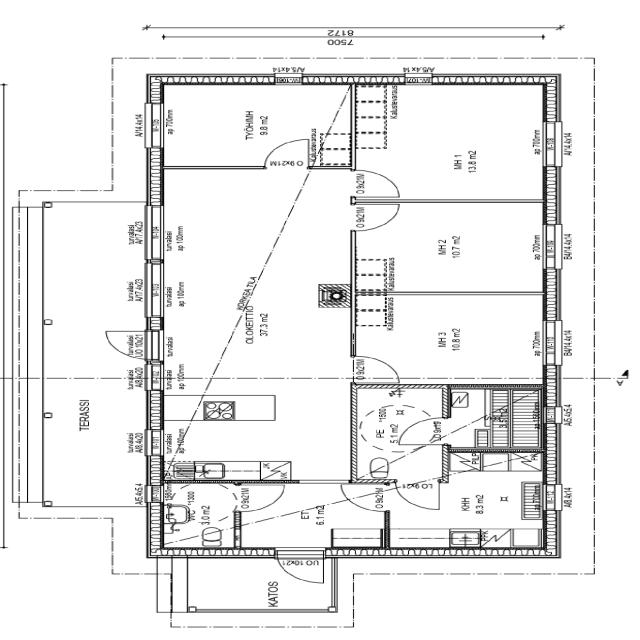door: (272, 547, 328, 585), (391, 476, 445, 513), (235, 480, 288, 514), (337, 481, 391, 514), (350, 168, 404, 199), (261, 136, 312, 166), (353, 201, 402, 231), (352, 354, 402, 383), (104, 330, 146, 359)
window: (141, 260, 170, 322), (139, 99, 169, 151), (142, 202, 168, 261), (538, 118, 565, 171), (538, 317, 564, 369), (538, 222, 564, 273), (344, 314, 364, 359), (145, 329, 166, 364), (146, 428, 164, 458)
zone: (362, 84, 550, 202), (354, 293, 551, 386), (352, 201, 549, 294), (158, 394, 350, 480), (159, 83, 343, 167), (429, 456, 547, 550), (447, 386, 544, 449), (159, 482, 237, 550), (350, 168, 403, 198), (313, 135, 355, 168)
